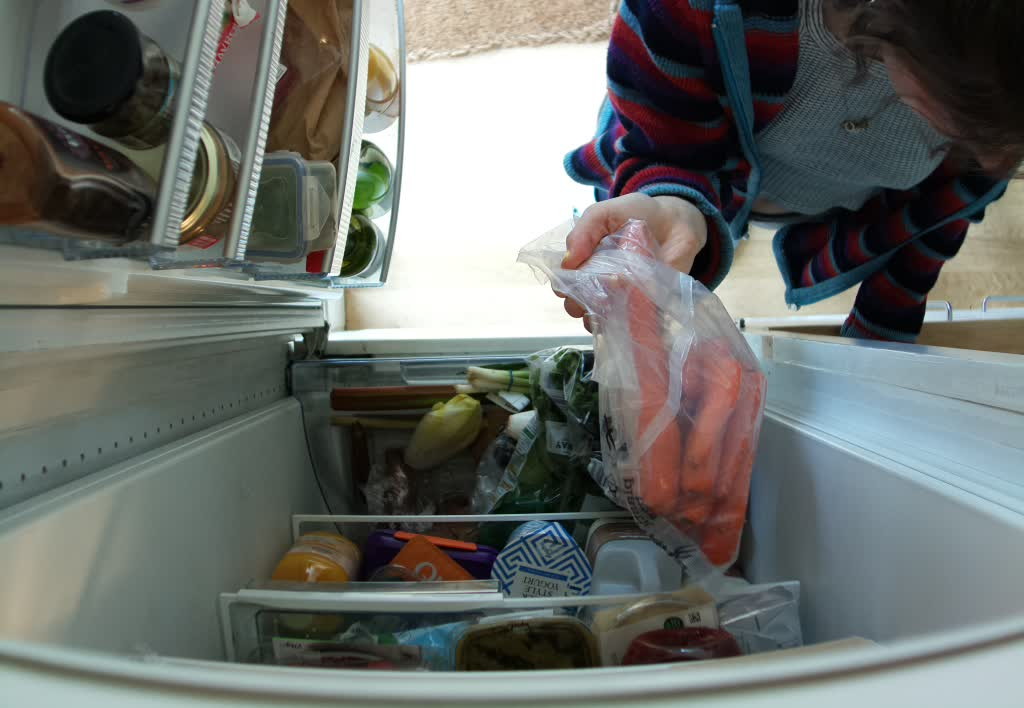carrot: (619, 271, 756, 573)
